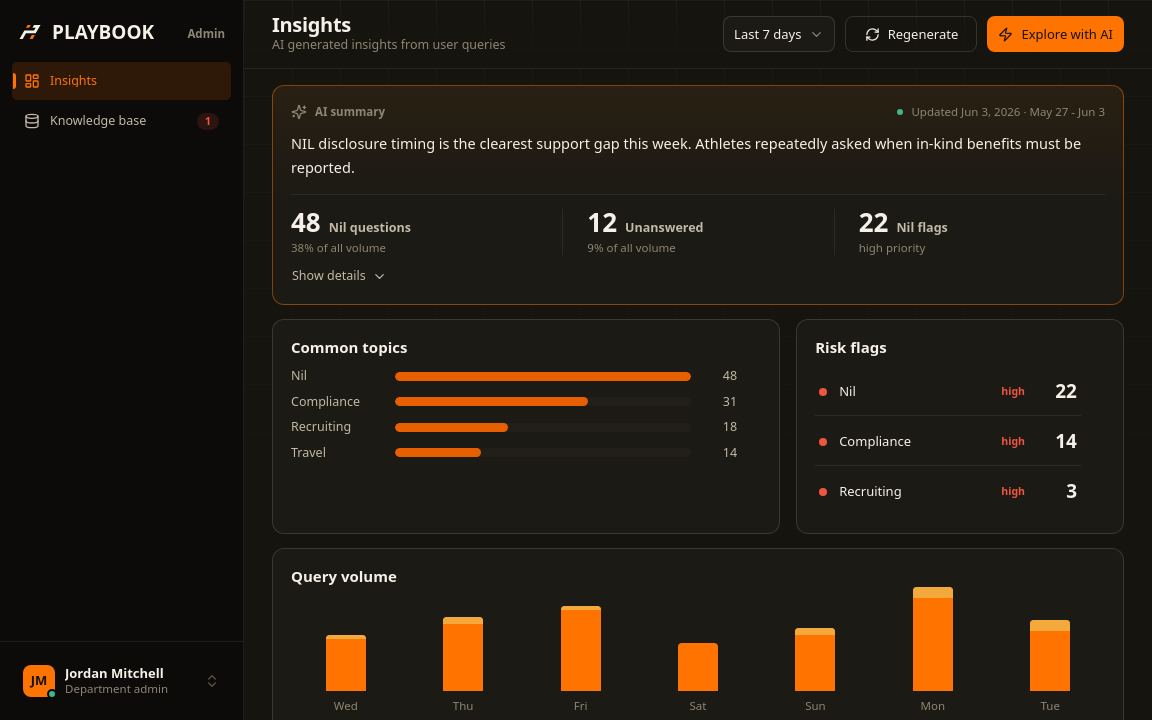
Test: AdminShell › opens admin settings without security and SSO options
The width and height of the screenshot is (1152, 720).
Click the button with aria-label "jordan mitchell account menu". click: (122, 681)
box: [12, 656, 231, 706]
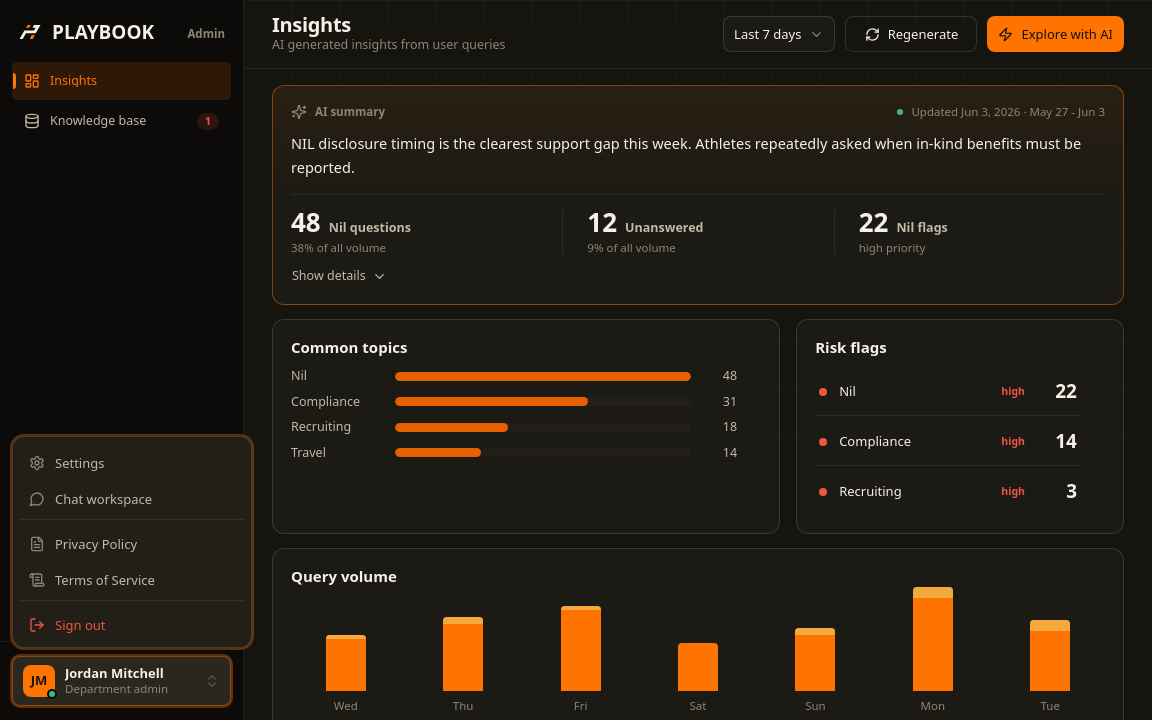
Click the menu item "Settings". click: (67, 462)
box: [29, 454, 104, 472]
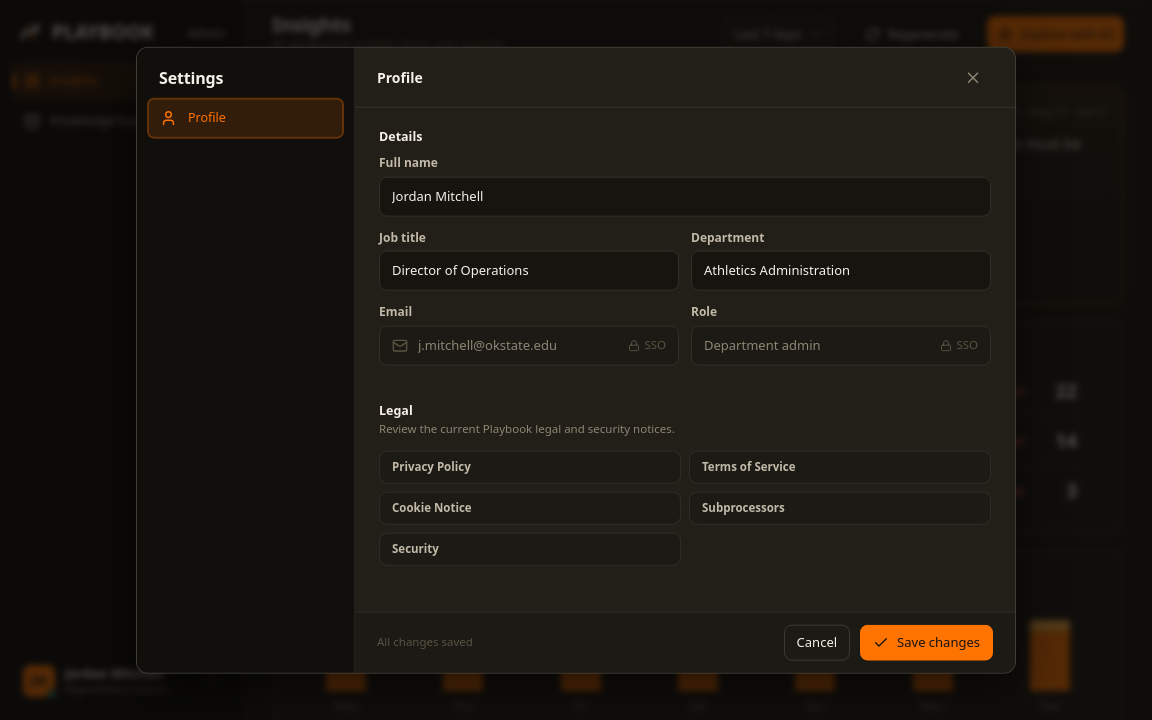
expect the dialog "Settings" is shown: met
Press Escape
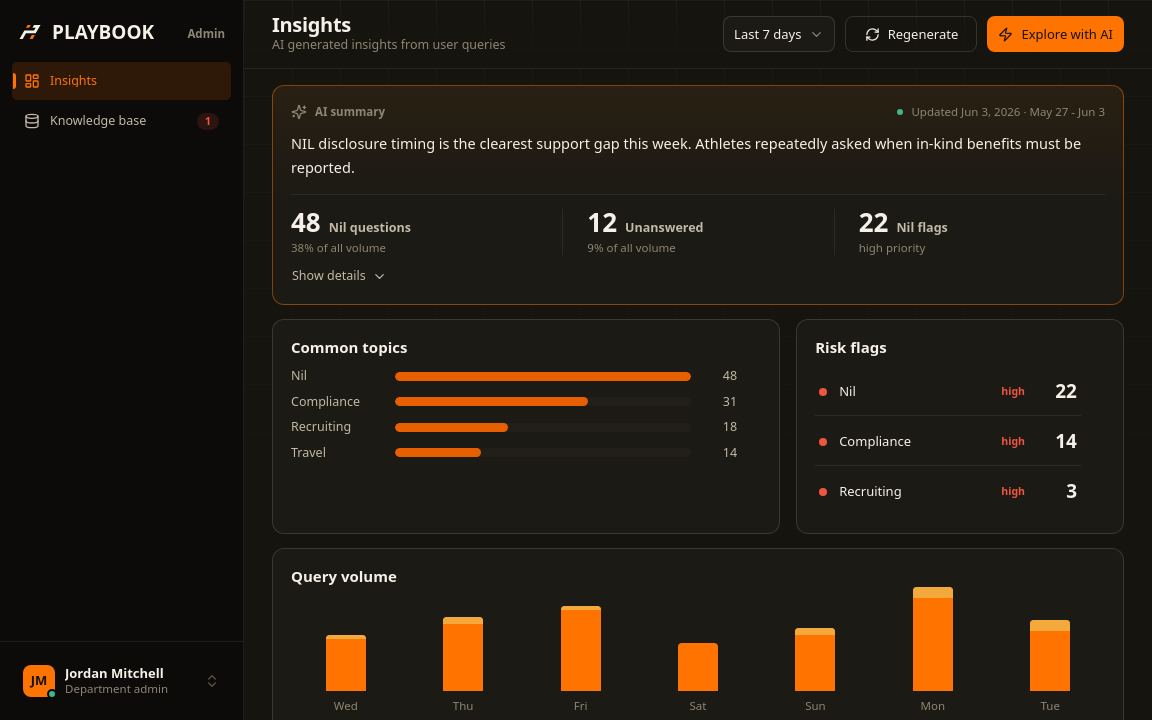
expect the heading "Settings" is gone: met
